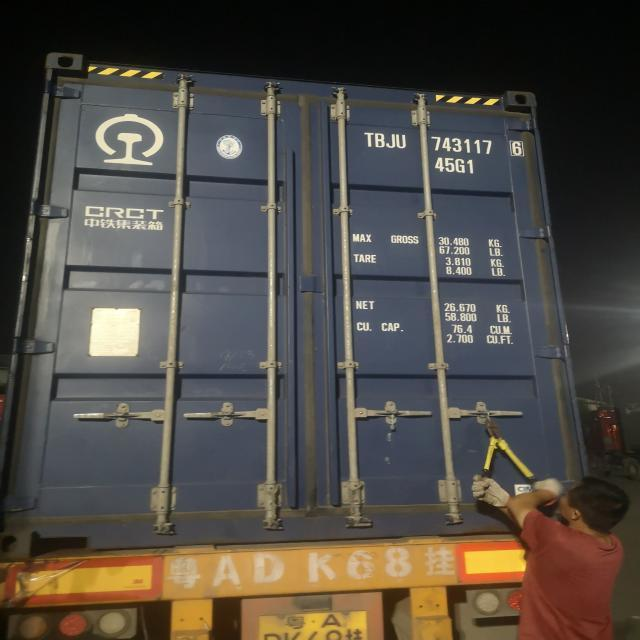ISO: (436, 158, 474, 176)
container_number: (366, 132, 524, 154)
